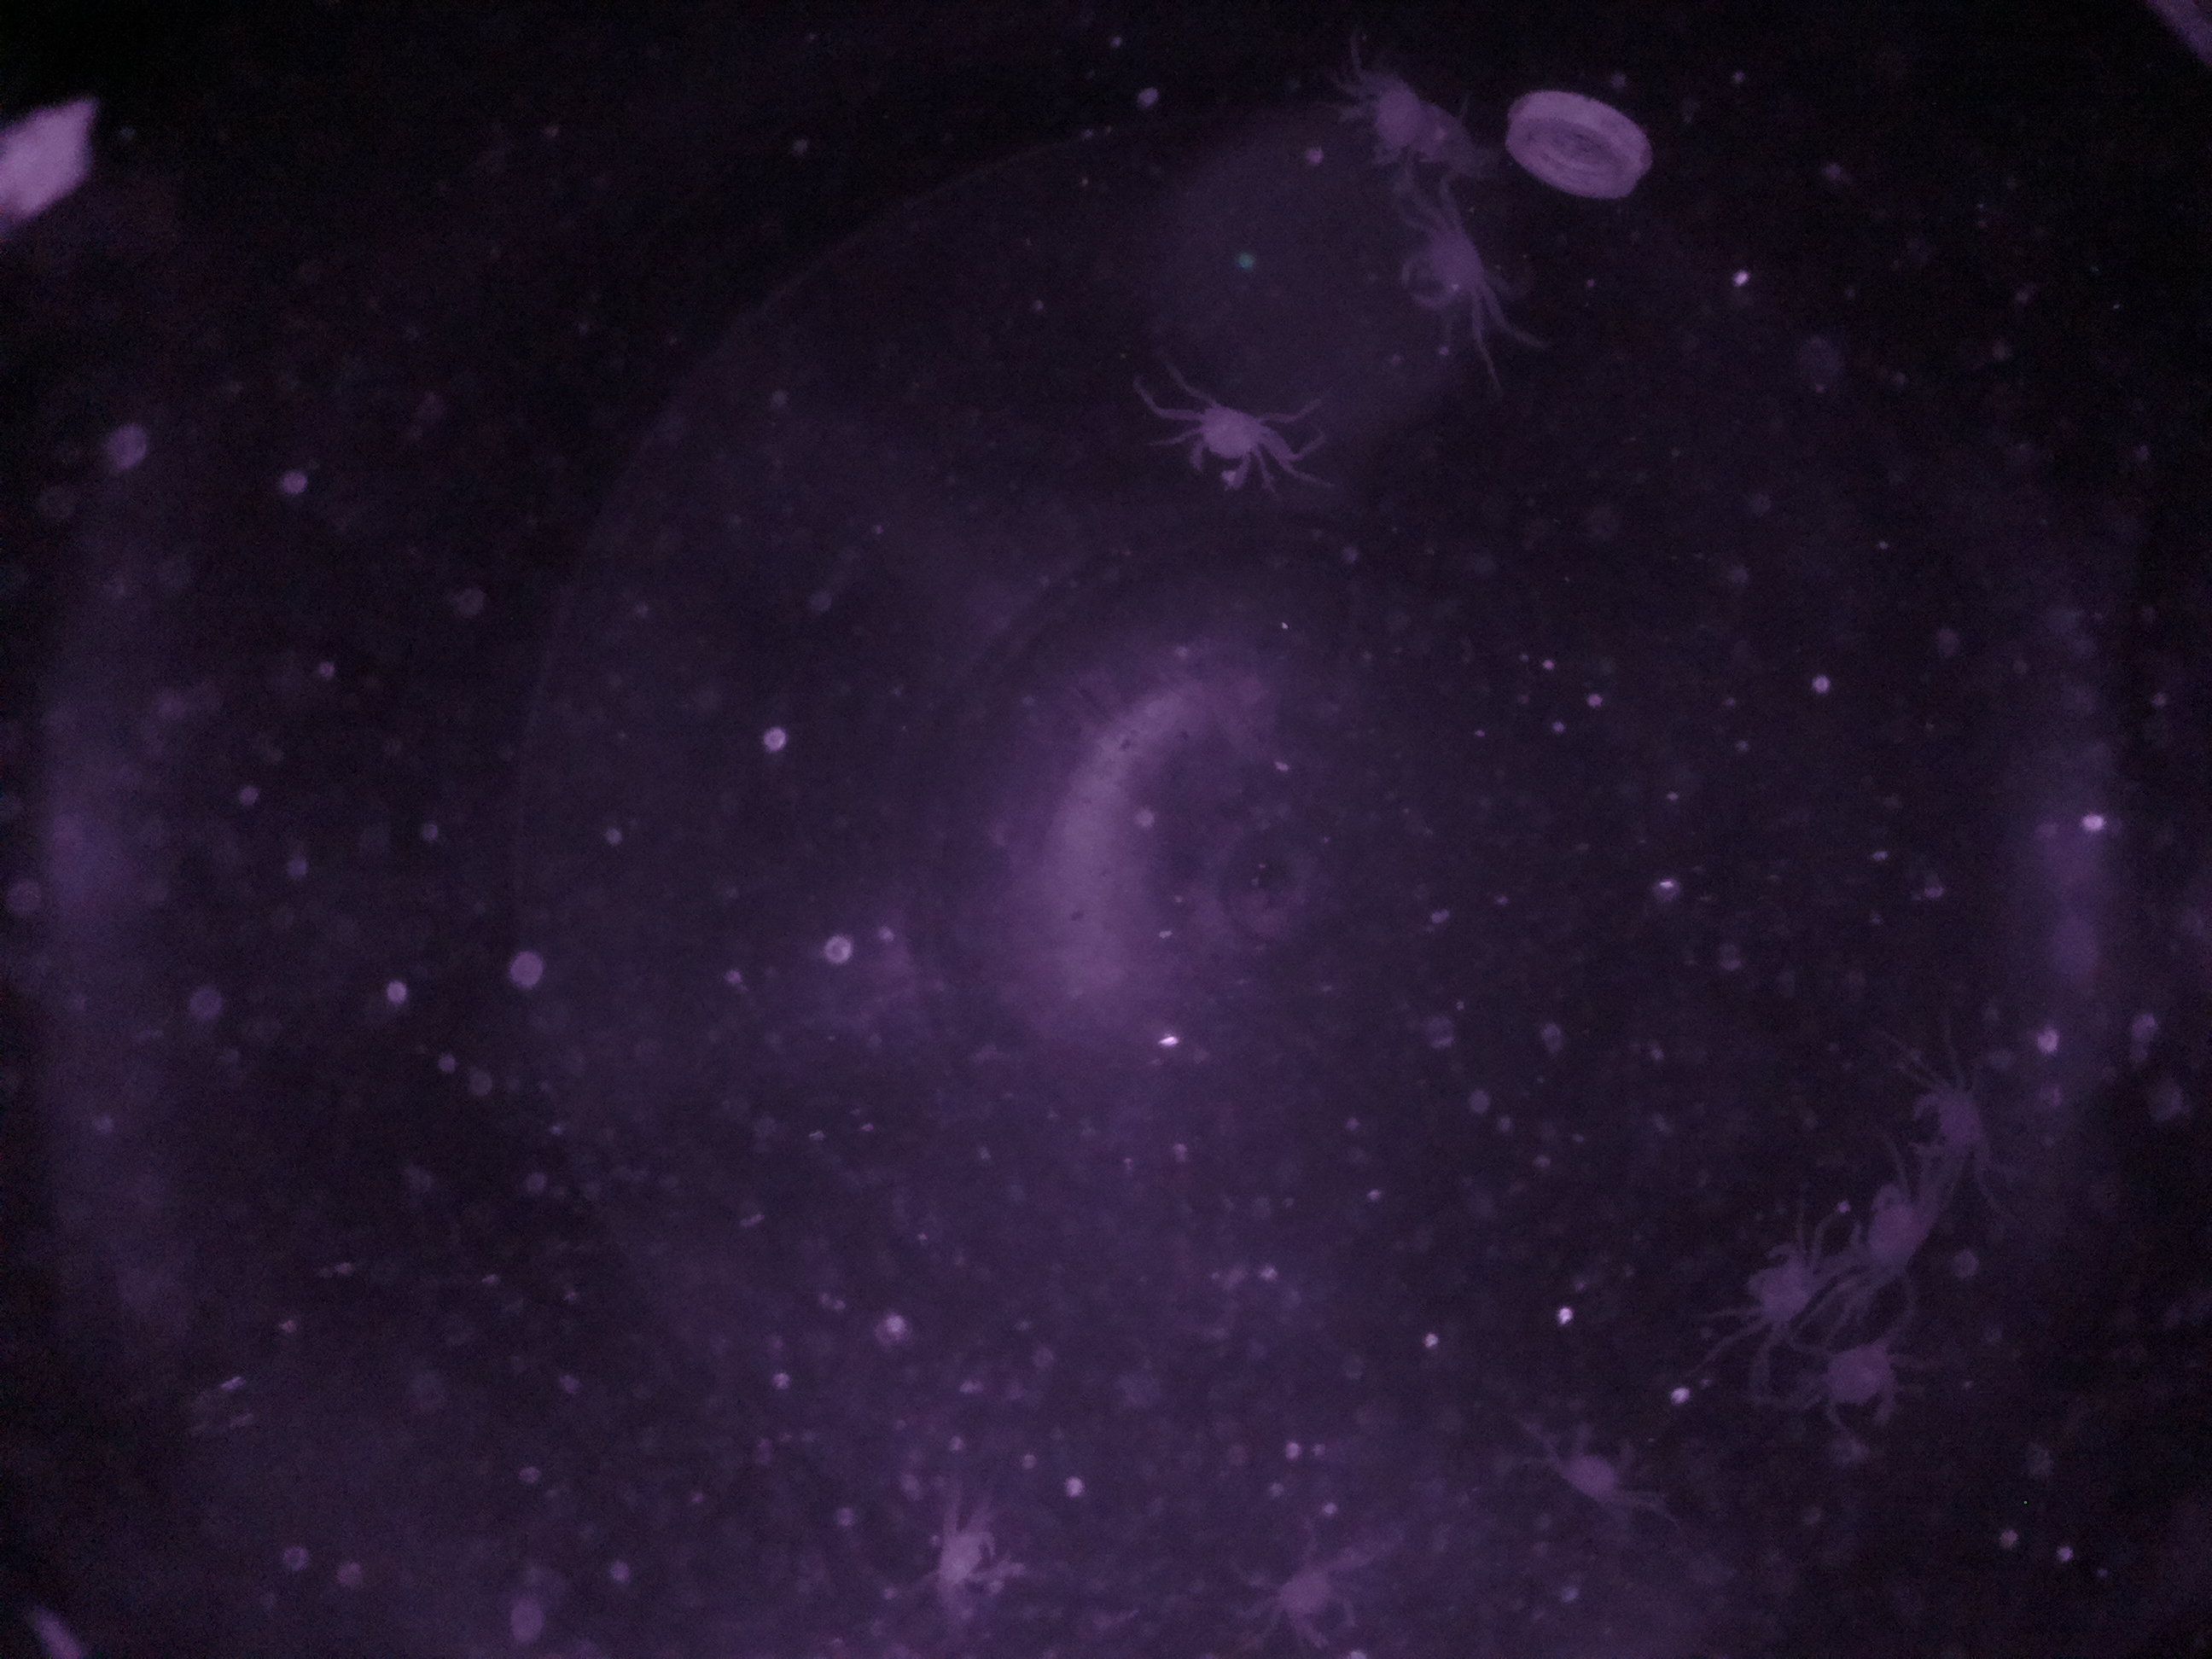Crab: (1832, 1169, 1954, 1293), (1392, 213, 1510, 329), (1258, 1549, 1379, 1659), (1172, 376, 1275, 502), (1719, 1223, 1832, 1337), (1815, 1330, 1912, 1453), (1892, 1075, 2012, 1173)
